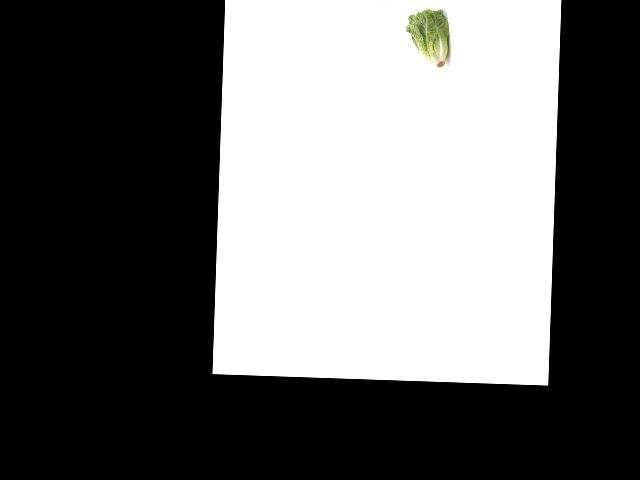lettuce: (404, 8, 451, 70)
